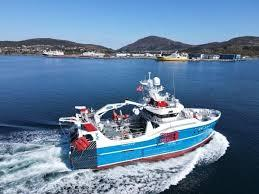Ship: (60, 73, 222, 170)
